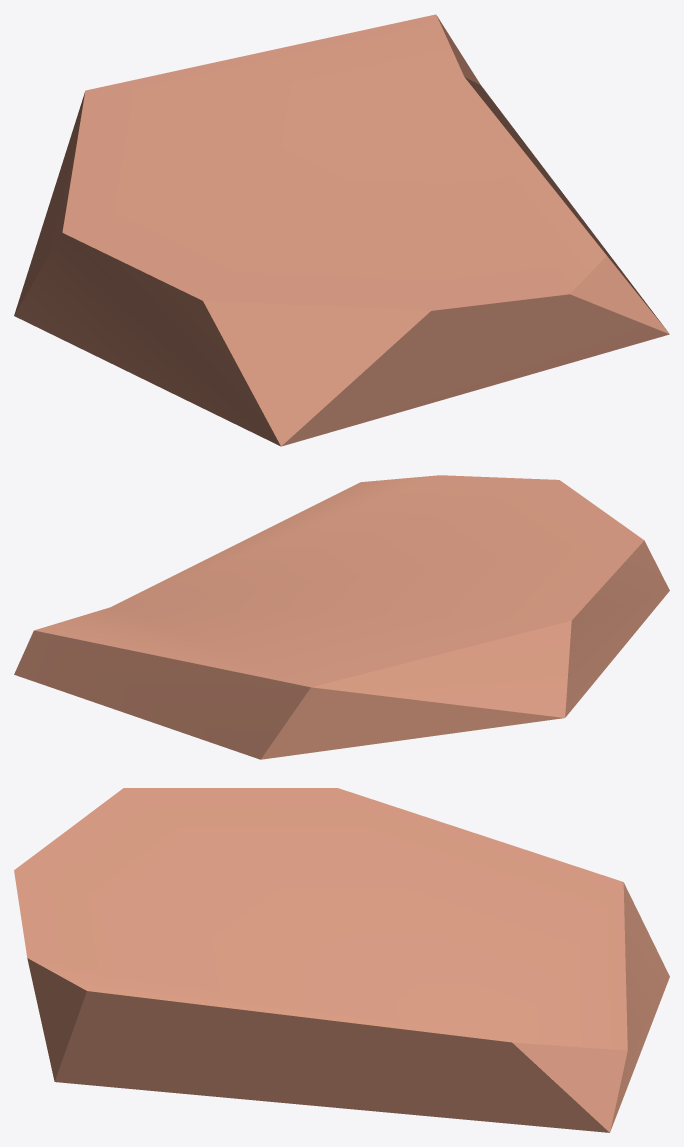
The model's file is SM_stone2.fbx.
3 renders of one model, top to bottom at view 1: azimuth 30°, elevation 25°; view 2: azimuth 150°, elevation 25°; view 3: azimuth 270°, elevation 25°, orthographic. The views are drawn at different scales.
Parts seen in each view (by area): view 1: stone; view 2: stone; view 3: stone.
Boxes of the visible parts, box(x1,y1,x2,y2) form: stone: box(14, 14, 669, 446); stone: box(14, 475, 669, 759); stone: box(14, 788, 669, 1132).
Size of the model in its own units: 14.9 by 2.69 by 15.72.
